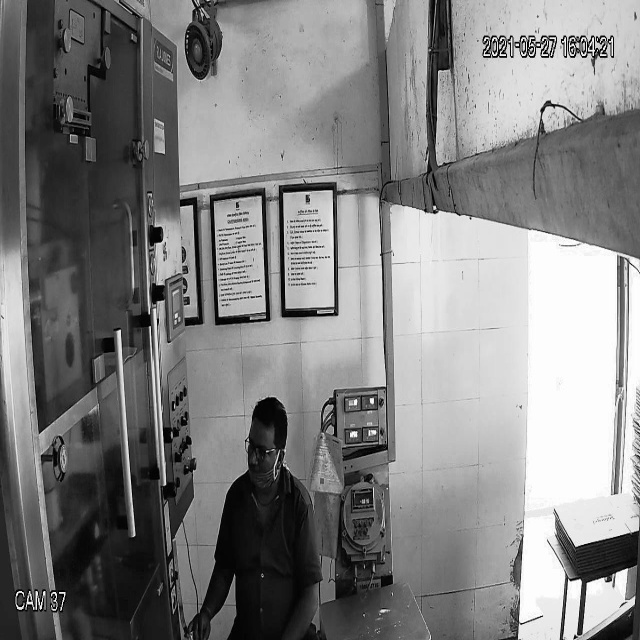Gafas: (240, 431, 288, 468)
